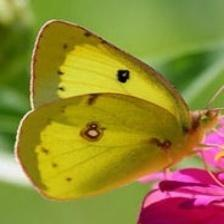butterfly: (15, 20, 219, 200)
